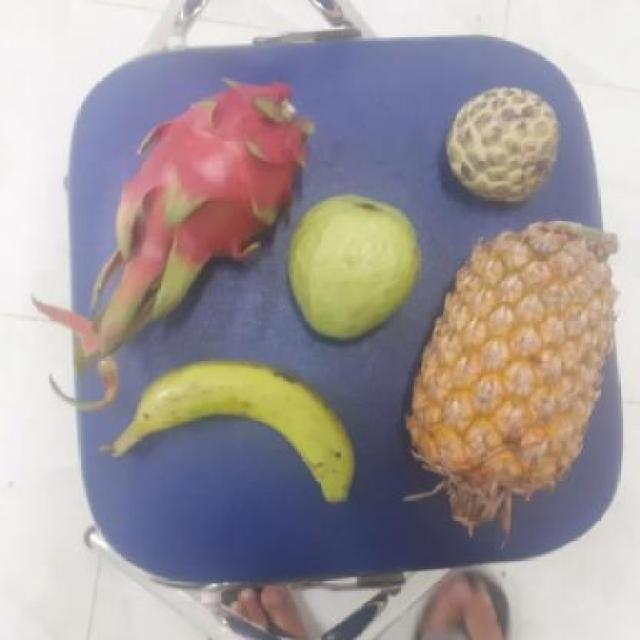banana: (106, 358, 357, 504)
dragon fruit: (113, 88, 310, 272)
guava: (282, 194, 420, 338)
pineapple: (408, 222, 610, 498)
sugar apple: (442, 89, 560, 200)
